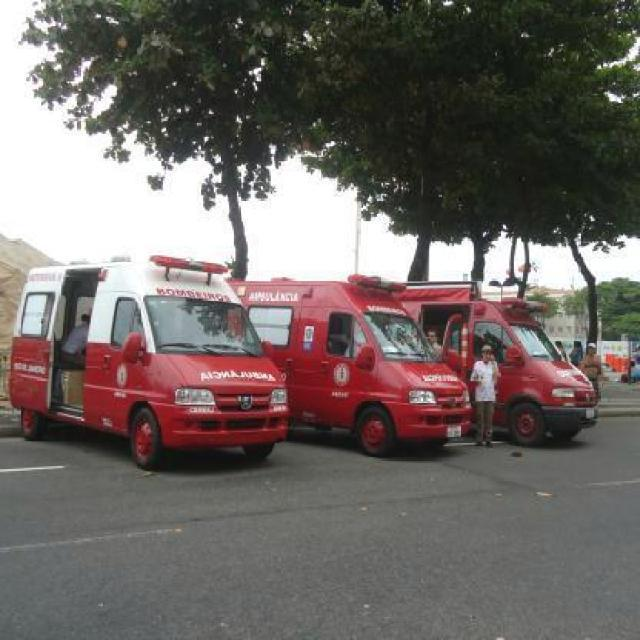emergency: (7, 252, 291, 468), (224, 272, 474, 456), (367, 290, 601, 452)
